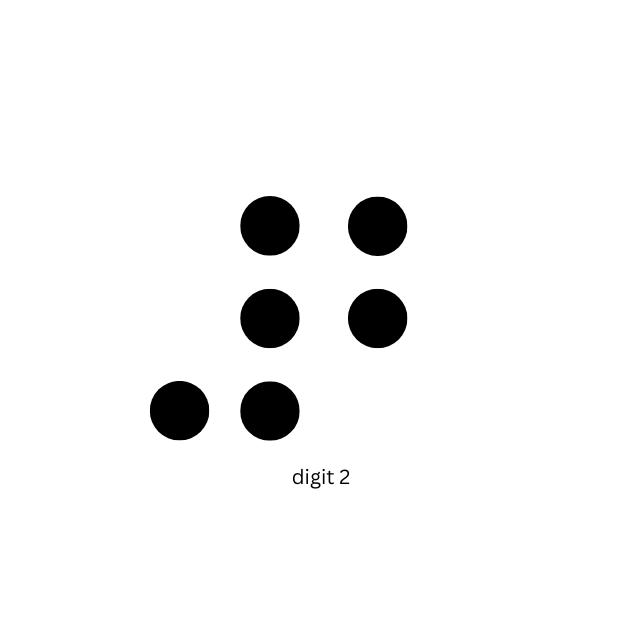digit_2: (346, 195, 493, 438)
number_sign: (146, 196, 304, 442)
